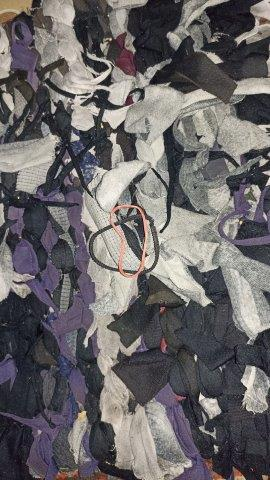karet: (88, 204, 161, 279)
